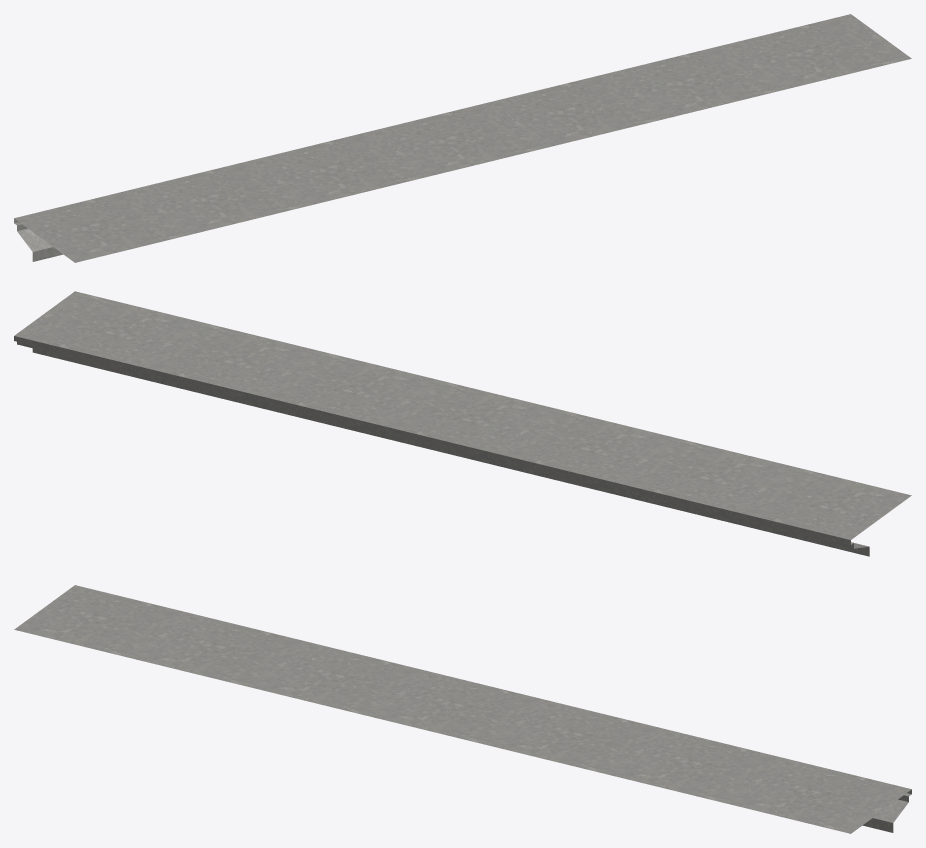
The model's file is GJ_Trim_02_01.fbx.
3 renders of one model, top to bottom at view 1: azimuth 30°, elevation 25°; view 2: azimuth 150°, elevation 25°; view 3: azimuth 330°, elevation 25°, orthographic.
Parts seen in each view (by area): view 1: GJ_Trim_02_01; view 2: GJ_Trim_02_01; view 3: GJ_Trim_02_01.
Boxes of the visible parts, <box> form: GJ_Trim_02_01: <box>14,14,911,262</box>; GJ_Trim_02_01: <box>14,291,911,556</box>; GJ_Trim_02_01: <box>14,585,911,833</box>.
Size of the model in its own units: 600 by 20.69 by 75.8.
